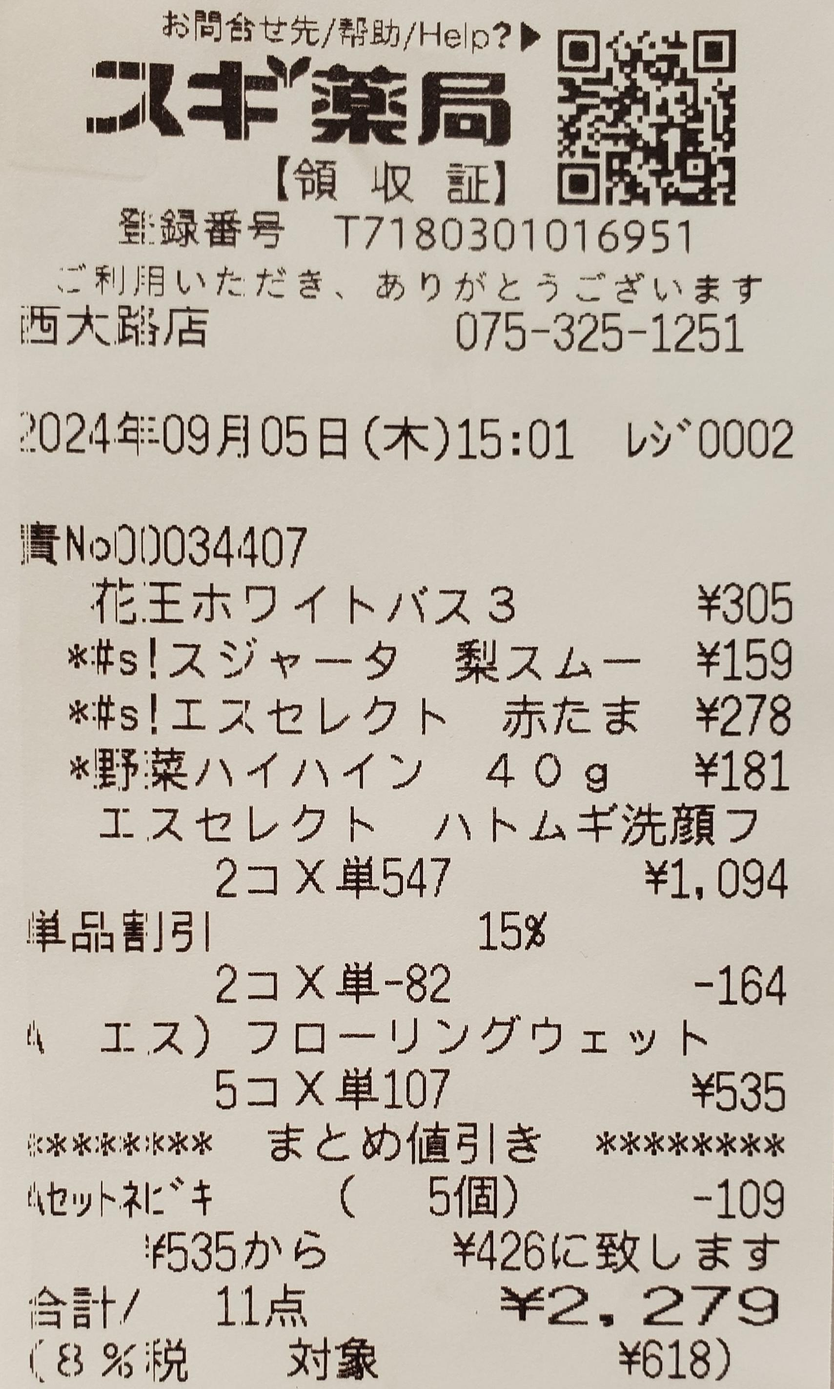TEL: (442, 305, 751, 363)
date: (17, 400, 361, 479)
total: (549, 1278, 786, 1332)
